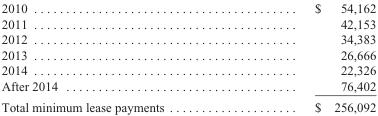table: (0, 1, 375, 113)
table column: (0, 1, 238, 113), (238, 1, 375, 113)
table row: (0, 77, 375, 95), (0, 95, 375, 113), (0, 15, 375, 31), (0, 46, 375, 62), (0, 31, 375, 46), (0, 62, 375, 77), (0, 1, 375, 15)
